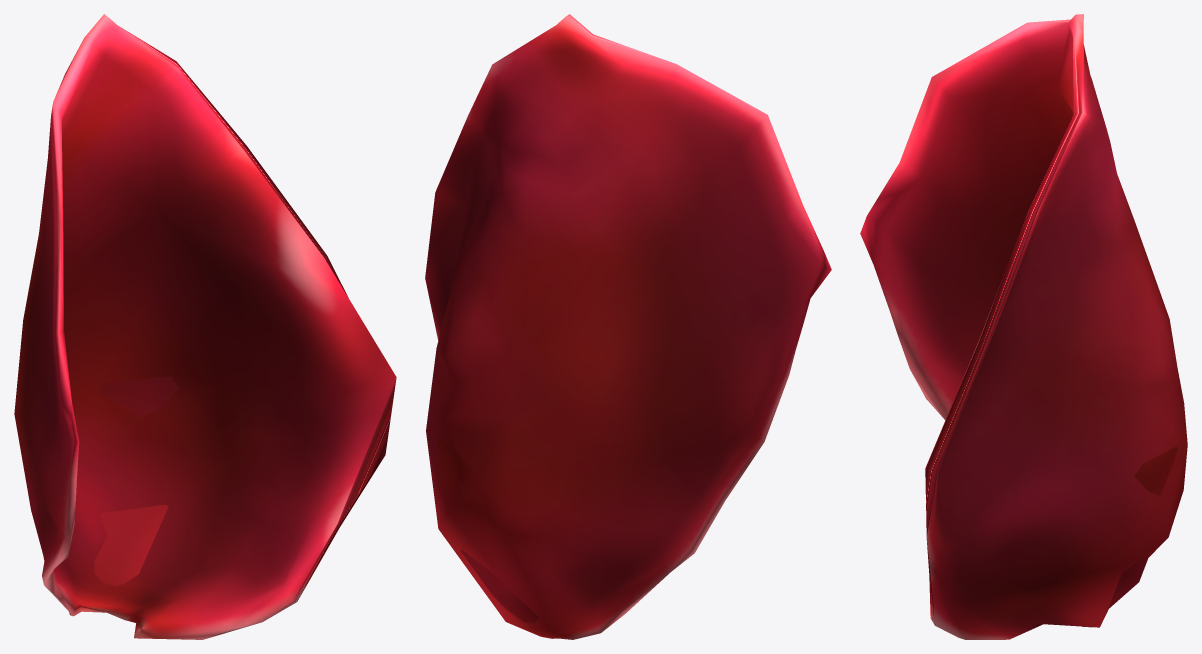
3 renders of one model, left to right at view 1: azimuth 30°, elevation 25°; view 2: azimuth 150°, elevation 25°; view 3: azimuth 270°, elevation 25°, orthographic. The views are drawn at different scales.
Parts seen in each view (by area): view 1: PM3D_Cube3D_22.008; view 2: PM3D_Cube3D_22.008; view 3: PM3D_Cube3D_22.008.
Boxes of the visible parts, x1,y1,x2,y2 form: PM3D_Cube3D_22.008: [14, 14, 396, 639]; PM3D_Cube3D_22.008: [425, 14, 831, 639]; PM3D_Cube3D_22.008: [860, 14, 1187, 639].
Bounding box in the file's own units: 0.7592 × 1.24 × 0.6073.
Materials: 1 (1 with a texture image).
